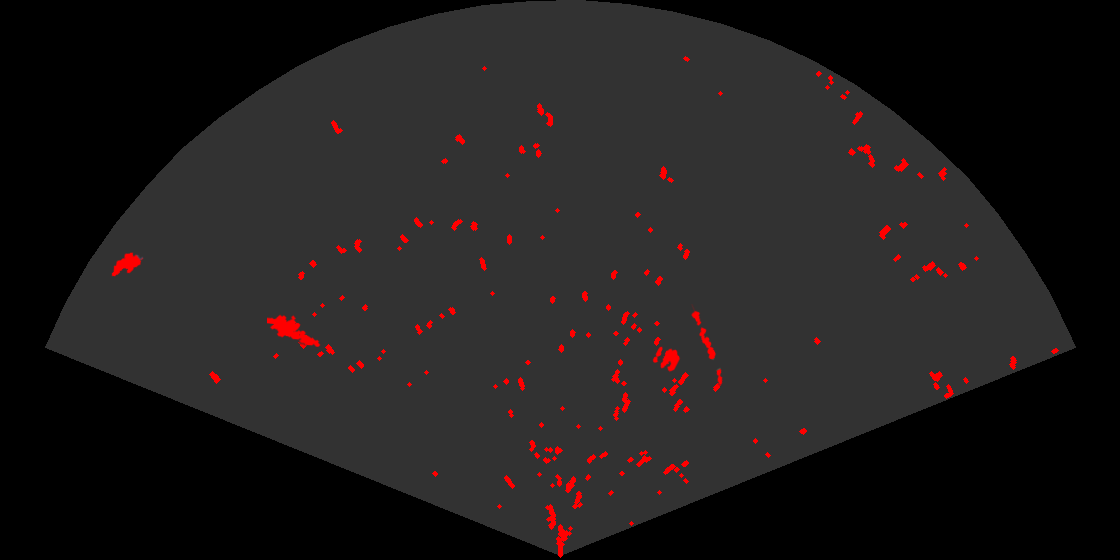AUV: (110, 251, 145, 278)
ball: (651, 345, 682, 374)
chain: (690, 304, 724, 387)
frogman: (267, 313, 322, 349)
